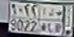0: (17, 6, 23, 32)
2: (31, 4, 39, 33), (24, 4, 30, 32)
9: (11, 3, 17, 31)
A: (41, 7, 46, 33)
B: (56, 6, 62, 34)
L: (47, 6, 54, 34)
